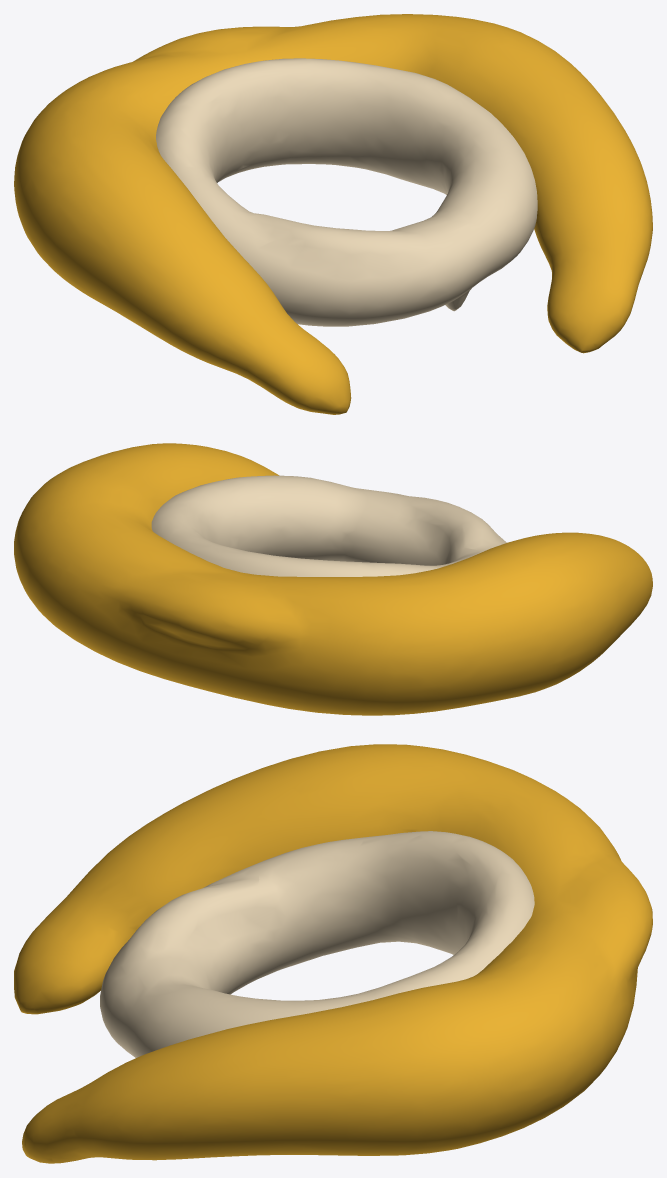
Rendered from collar_packet_v002.glb.
3 views of the same model, one above another, from view 1: azimuth 30°, elevation 25°; view 2: azimuth 150°, elevation 25°; view 3: azimuth 270°, elevation 25° (orthographic). The views are drawn at different scales.
Visible parts, largest first — view 1: SCULPT_HOOD, SCULPT_SCARF; view 2: SCULPT_HOOD, SCULPT_SCARF; view 3: SCULPT_HOOD, SCULPT_SCARF.
Part boxes in pixels (x1,y1,x2,y2): SCULPT_HOOD: (14,14,652,414); SCULPT_SCARF: (156,58,537,326); SCULPT_HOOD: (14,443,652,715); SCULPT_SCARF: (151,475,506,576); SCULPT_HOOD: (14,744,652,1163); SCULPT_SCARF: (100,831,534,1057).
Bounding box in the file's own units: 0.2826 × 0.0896 × 0.2425.
